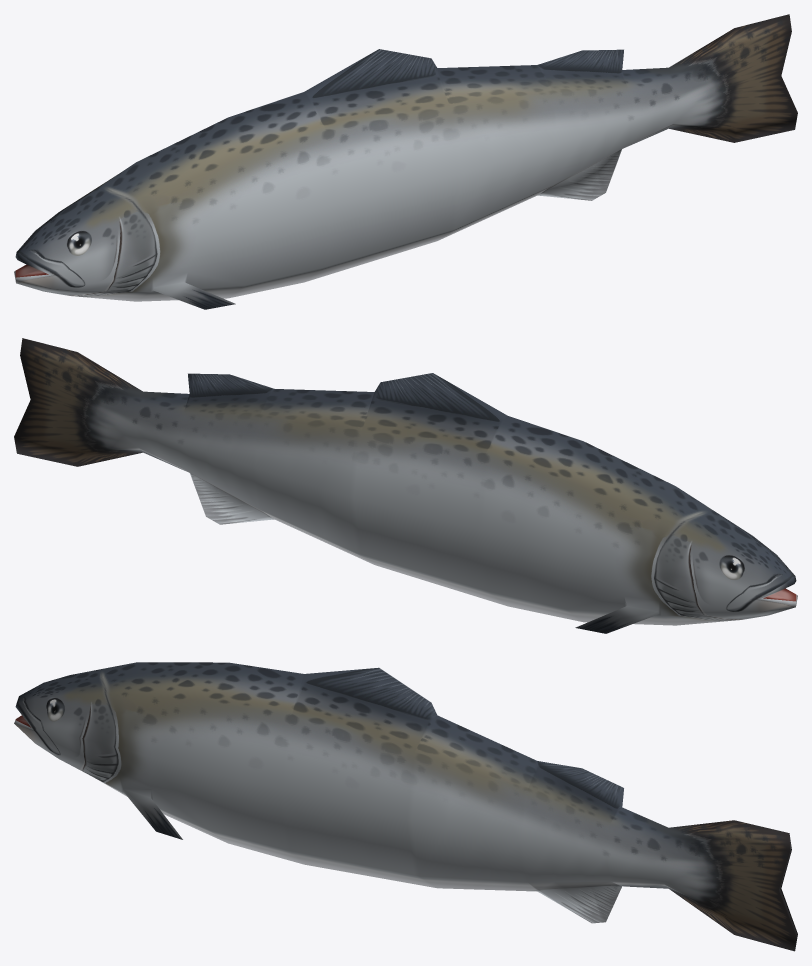
File: salmon.FBX
3 views of the same model, one above another, from view 1: azimuth 30°, elevation 25°; view 2: azimuth 150°, elevation 25°; view 3: azimuth 330°, elevation 25° (orthographic).
Parts seen in each view (by area): view 1: Cylinder001; view 2: Cylinder001; view 3: Cylinder001.
Part boxes in pixels (x1,y1,x2,y2): Cylinder001: (14,14,797,309); Cylinder001: (14,338,797,633); Cylinder001: (14,662,797,951).
Bounding box in the file's own units: 160 × 41.99 × 18.68.
1 material, 1 textured.
